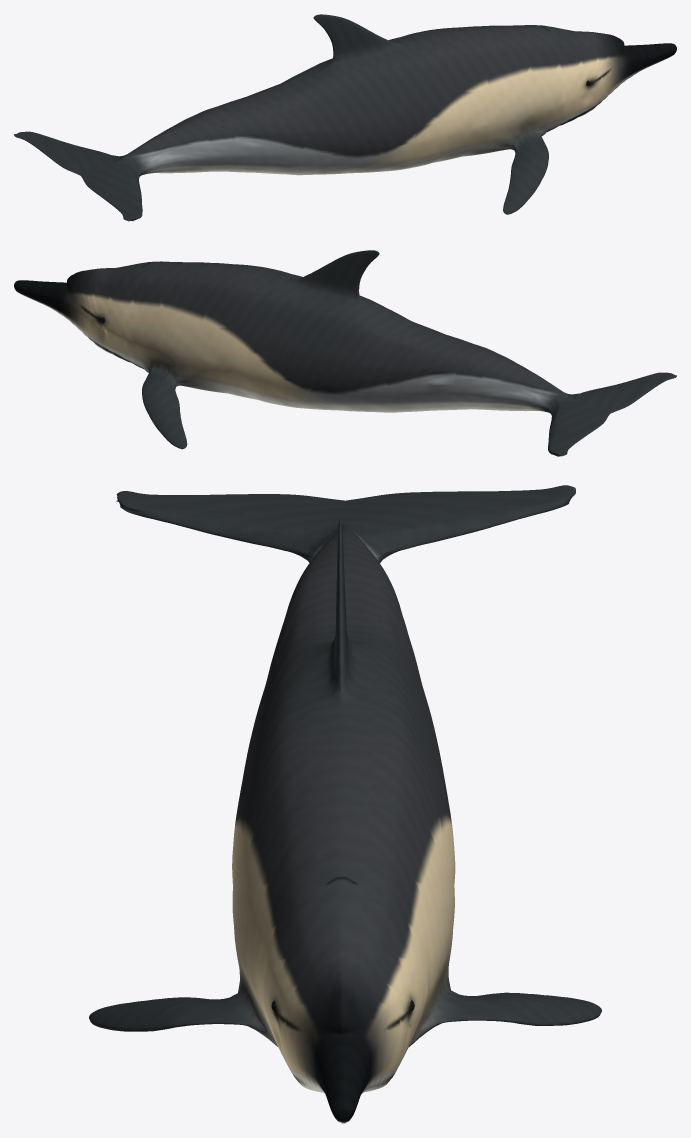
File: dolphin-corrected-v0662.glb
The picture shows the model from 3 angles, top to bottom: view 1: azimuth 30°, elevation 25°; view 2: azimuth 150°, elevation 25°; view 3: azimuth 270°, elevation 25°; orthographic projection. The views are drawn at different scales.
Parts seen in each view (by area): view 1: dolphin-supplied-body; view 2: dolphin-supplied-body; view 3: dolphin-supplied-body.
Part boxes in pixels (<box>): dolphin-supplied-body: <box>14,14,676,221</box>; dolphin-supplied-body: <box>14,250,676,456</box>; dolphin-supplied-body: <box>89,485,601,1123</box>.
Size of the model in its own units: 5.31 by 1.55 by 1.95.
Materials: 2 (1 with a texture image).
